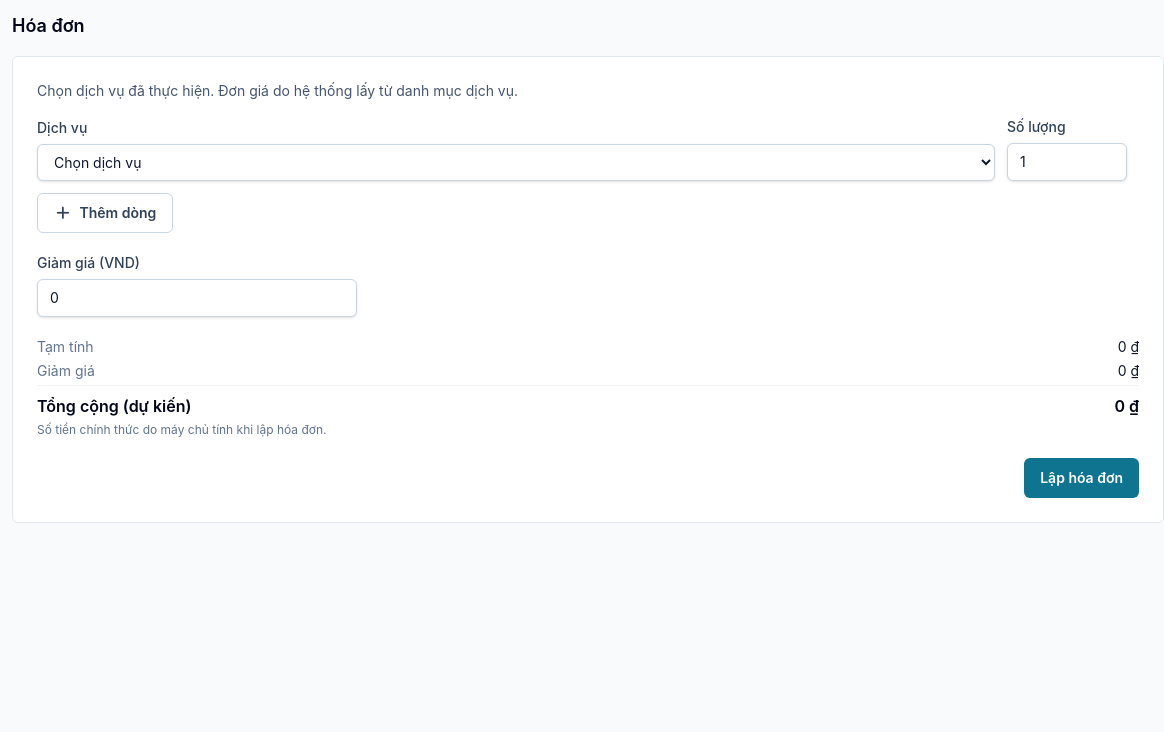
EncounterInvoiceTab › chưa có hóa đơn: hiện biểu mẫu, tính tạm tính và gửi dòng dịch vụ (không gửi đơn giá)
The image size is (1164, 732).
Select "Khám tổng quát — 200.000 ₫" in the dropdown with id "inv-service-0" at [516, 162], box [37, 144, 995, 181]
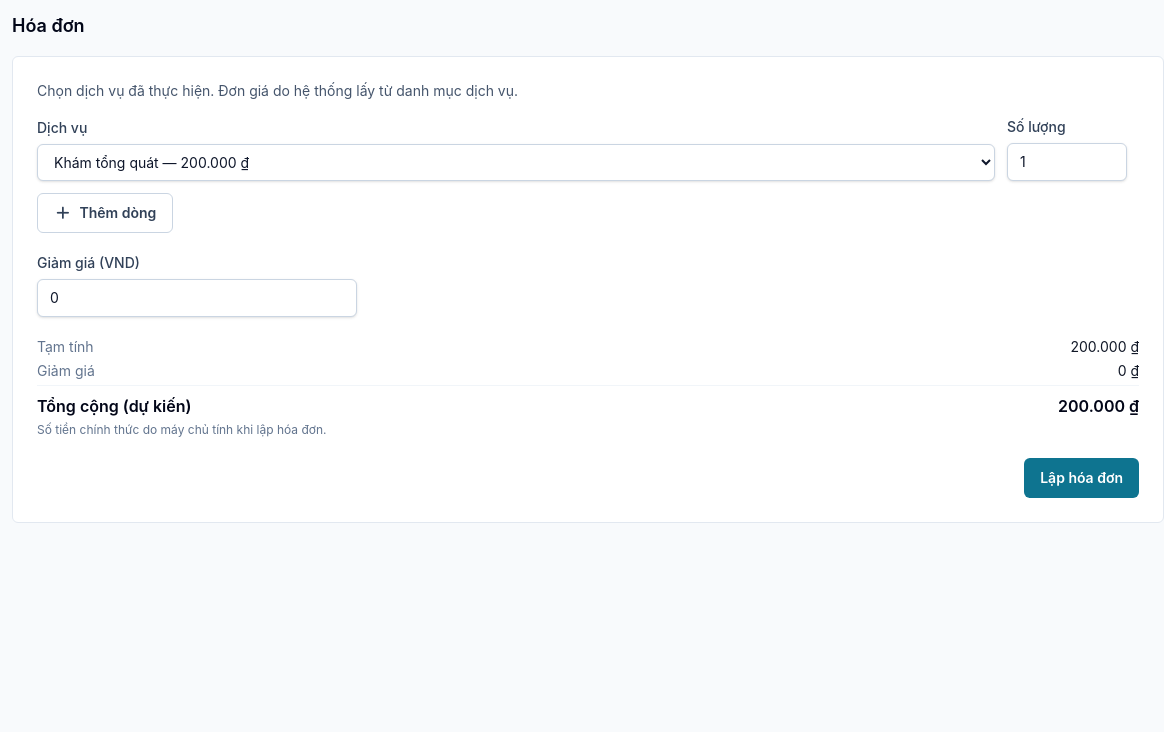
Replace the text in the number field with id "inv-quantity-0" with "2" at [1067, 162], box [1007, 143, 1127, 181]
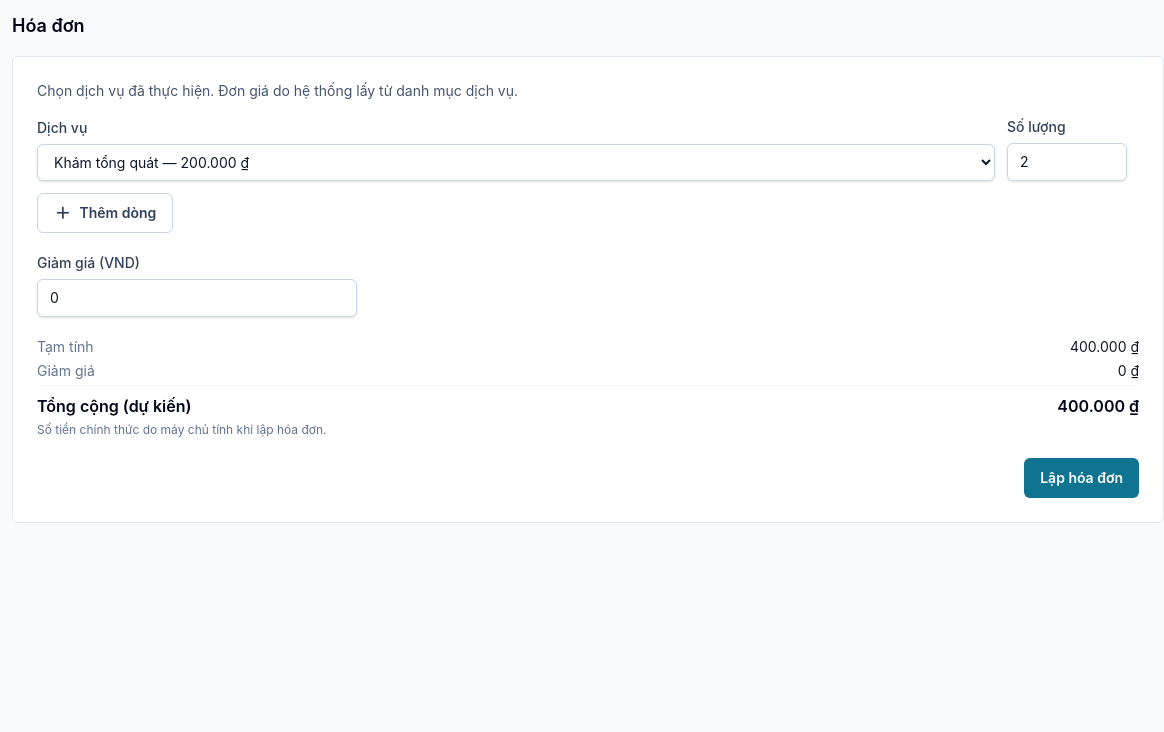
Replace the text in the number field with id "inv-discount" with "50000" at [197, 298], box [37, 279, 357, 317]
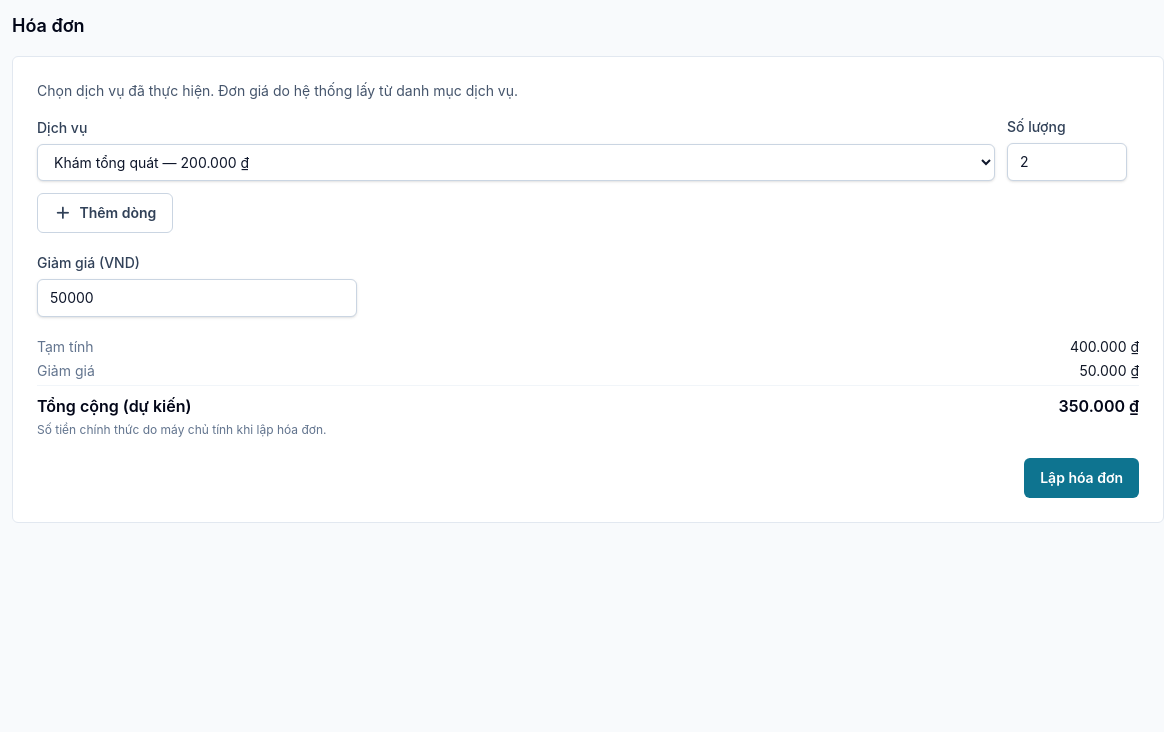
Submit the form with test id "invoice-form"
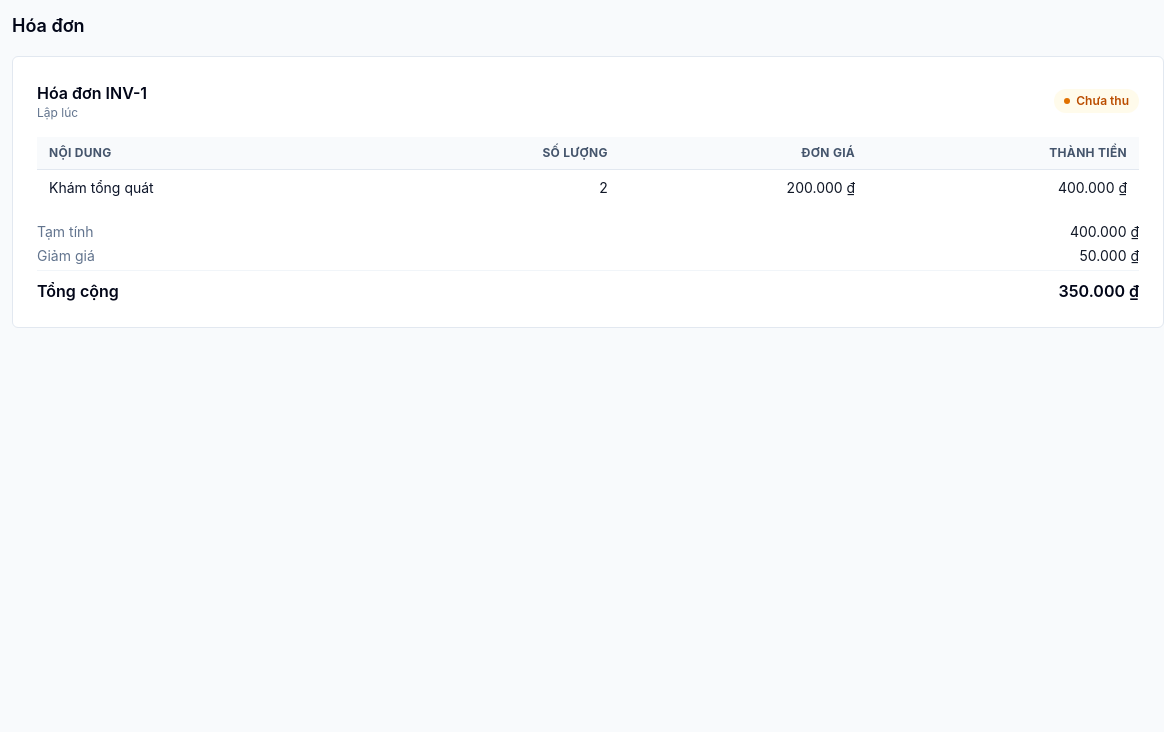
expect the element with test id "invoice-view" shows "INV-1": met, box [37, 83, 147, 103]
